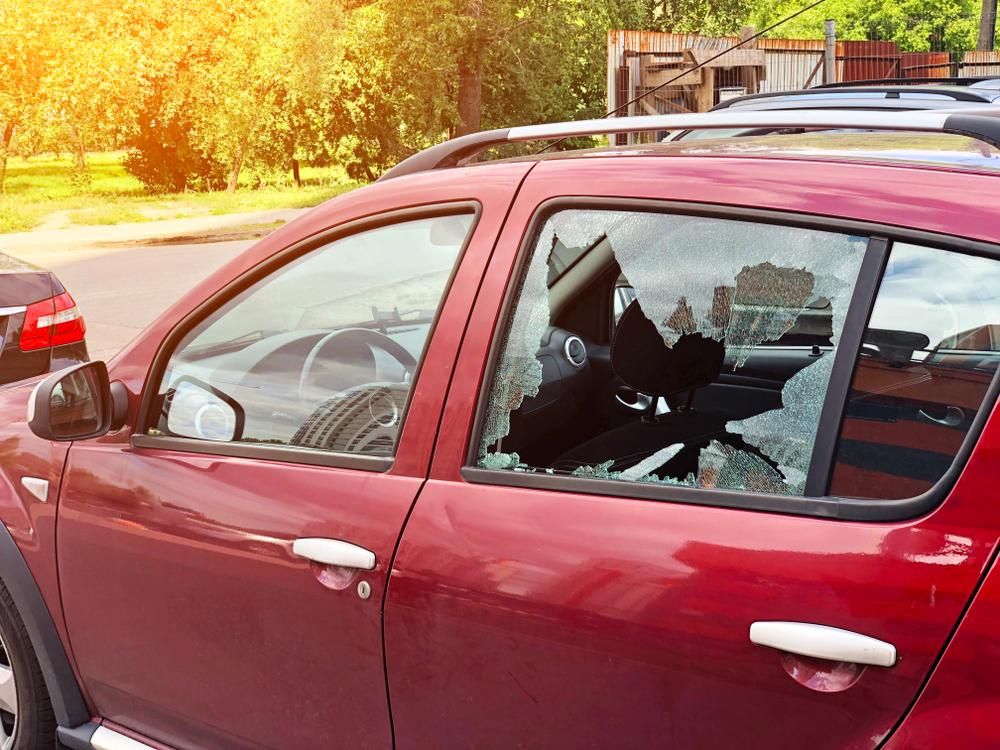glass shatter: (475, 207, 870, 497)
